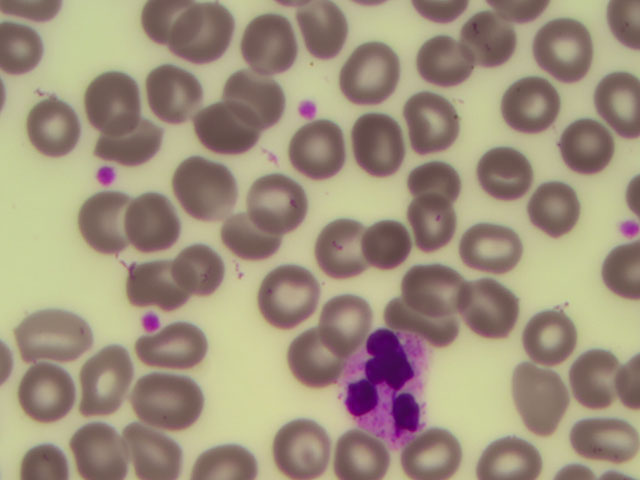Platelets: (95, 162, 119, 190), (616, 216, 640, 241), (295, 95, 318, 120), (143, 314, 162, 328)
RBC: (82, 70, 142, 134), (13, 99, 73, 163), (111, 104, 171, 168), (133, 186, 193, 250), (74, 194, 134, 258), (123, 249, 183, 313), (176, 240, 236, 304), (214, 209, 274, 273), (171, 153, 231, 217), (204, 112, 264, 176), (146, 61, 206, 125), (178, 2, 238, 66), (244, 17, 304, 81), (290, 115, 350, 179), (227, 52, 287, 116), (253, 172, 313, 236), (262, 260, 322, 324), (316, 215, 376, 279), (354, 218, 414, 282), (390, 191, 450, 255), (395, 151, 455, 215), (338, 104, 398, 168), (390, 97, 450, 161), (347, 46, 407, 110), (403, 37, 463, 101), (461, 10, 521, 74), (505, 71, 565, 135), (535, 19, 595, 83), (580, 69, 640, 133), (562, 116, 622, 180), (525, 179, 585, 243), (473, 145, 533, 209), (456, 214, 516, 278), (466, 270, 526, 334), (413, 255, 473, 319), (401, 285, 461, 349), (327, 289, 387, 353), (287, 323, 347, 387), (269, 416, 329, 480), (343, 416, 403, 480), (408, 416, 468, 480), (479, 416, 539, 480), (506, 370, 566, 434), (521, 309, 581, 373), (555, 341, 615, 405), (580, 409, 640, 473), (202, 416, 262, 480), (131, 416, 191, 480), (78, 416, 138, 480), (13, 416, 73, 480), (17, 367, 77, 431), (20, 295, 80, 359), (69, 349, 129, 413), (145, 309, 205, 373), (142, 367, 202, 431), (135, 1, 195, 64)
WBC: (347, 328, 431, 441)
